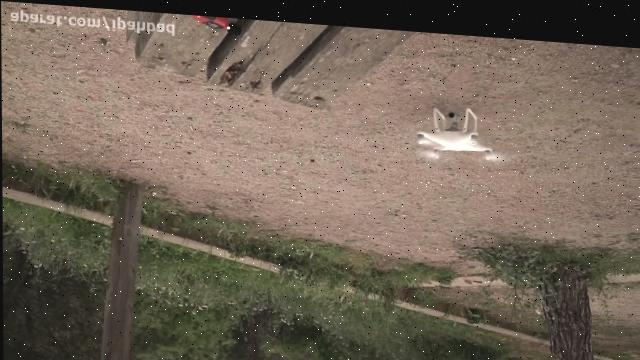drone: (409, 95, 510, 160)
